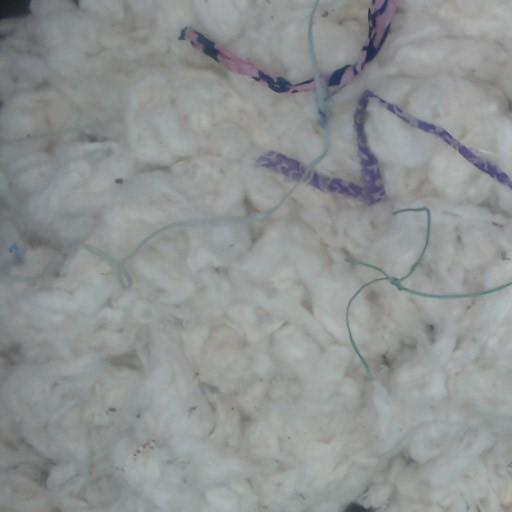cloth: (259, 90, 511, 203), (179, 0, 397, 99)
cotton: (0, 0, 511, 511)
thread: (345, 207, 511, 375), (295, 0, 329, 182), (114, 221, 203, 286), (225, 183, 298, 222)
